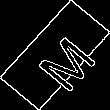M_NW: (19, 21, 91, 89)
